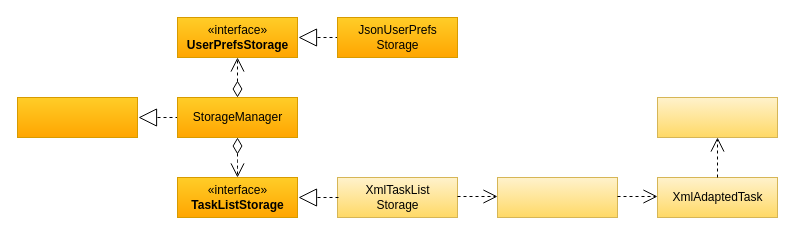
Image size: 795x235. Some labels were removed from this diagram. Each missing label, with the centre of its shape:
XmlAdaptedTag: the point at 717,117
XmlSerializable TaskList: the point at 557,197
«interface» Storage: the point at 77,117
